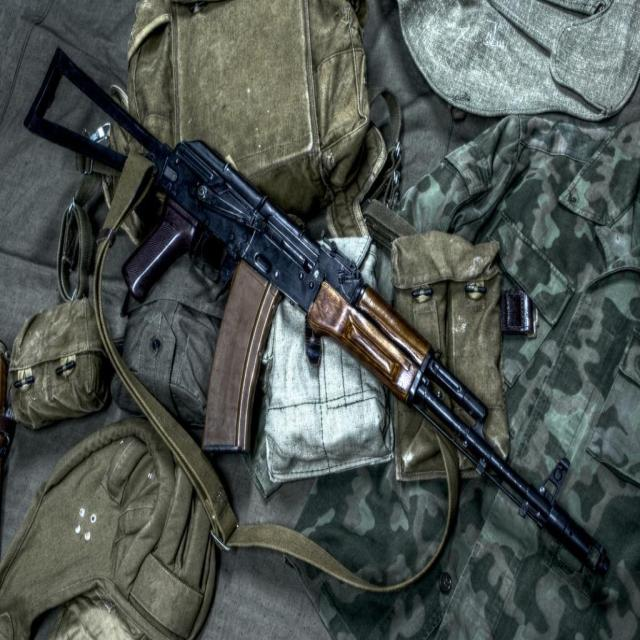firearm: (22, 48, 612, 581)
